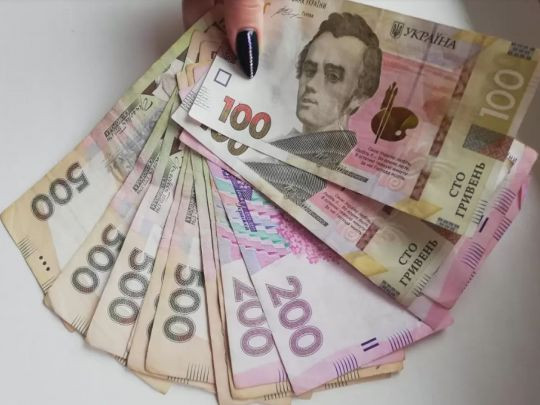bn_100: (215, 0, 530, 211), (285, 167, 456, 284)
bn_200: (230, 221, 410, 350), (197, 253, 276, 367)
bn_500: (0, 142, 124, 263), (73, 213, 173, 328), (39, 199, 138, 314), (144, 233, 205, 344), (117, 234, 176, 342)
